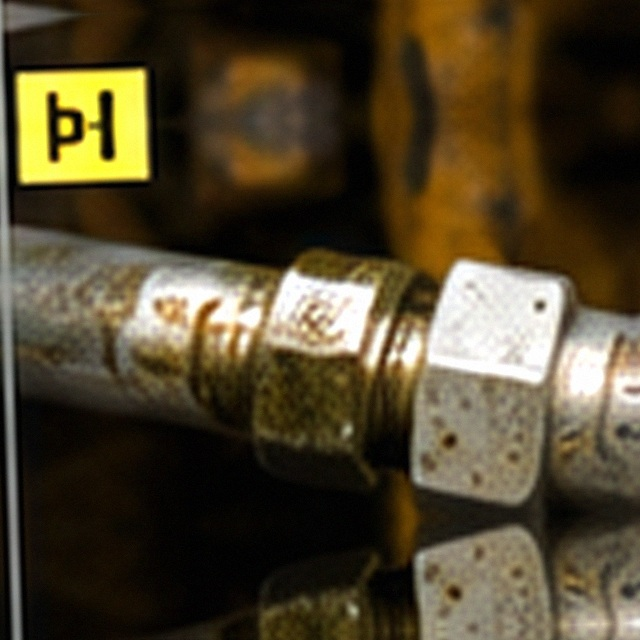hydraulic_oil_leak: (170, 266, 488, 443)
